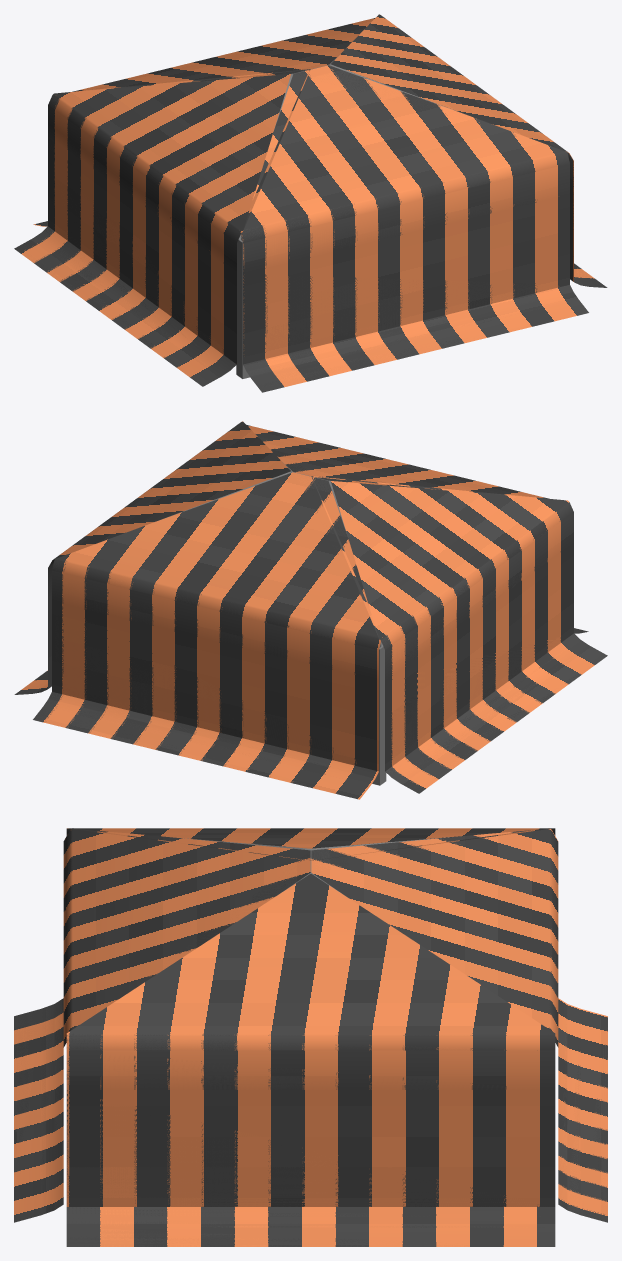
File: Tent_Closed.fbx
3 renders of one model, top to bottom at view 1: azimuth 30°, elevation 25°; view 2: azimuth 150°, elevation 25°; view 3: azimuth 270°, elevation 25°, orthographic. The views are drawn at different scales.
Parts seen in each view (by area): view 1: Tent_Closed; view 2: Tent_Closed; view 3: Tent_Closed.
Boxes of the visible parts, left/top/right/bottom form: Tent_Closed: left=14, top=14, right=607, bottom=392; Tent_Closed: left=14, top=421, right=607, bottom=799; Tent_Closed: left=14, top=828, right=607, bottom=1246.
Size of the model in its own units: 1370 by 651 by 1344.
Materials: 2 (2 with a texture image).
